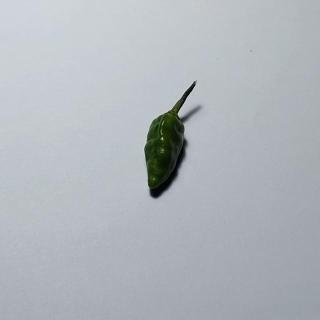Cabai Hijau: (139, 80, 206, 203)
